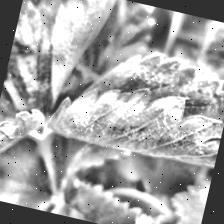Powdery Mildew Leaf: (45, 32, 224, 171)
